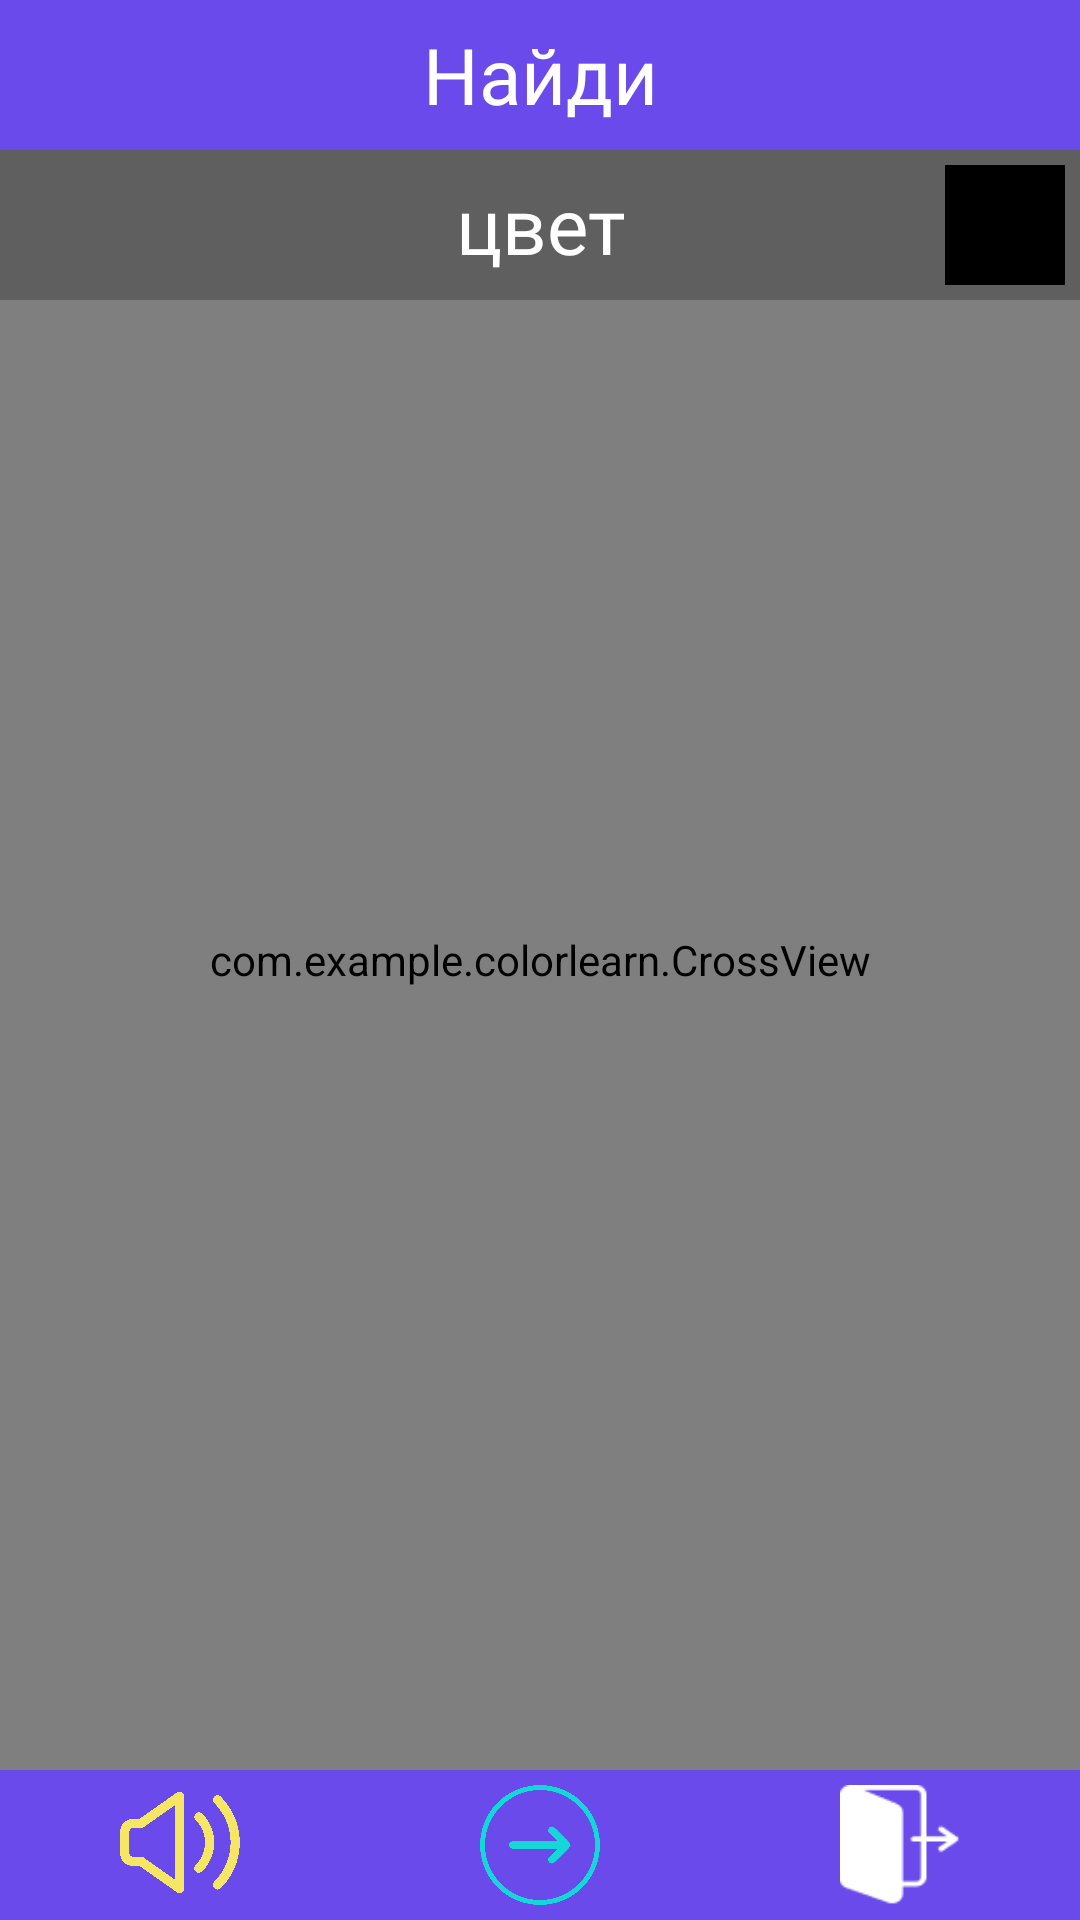

Point at icon controls on the screen. Image size 1080×1920, points as point (x, y).
exit: point (899, 1844)
next: point (540, 1845)
voice: point (180, 1842)
